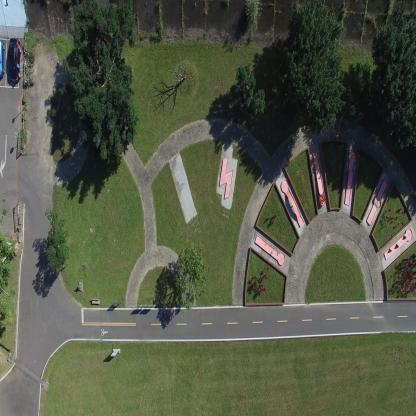car: (7, 36, 21, 83), (0, 38, 6, 80)
